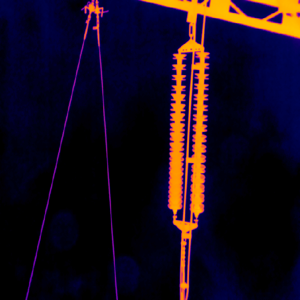insulator: (167, 43, 209, 216)
